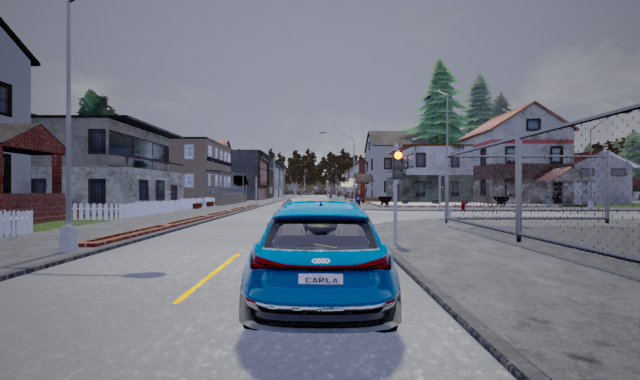traffic_light: (391, 149, 405, 180)
vehicle: (239, 203, 402, 333)
